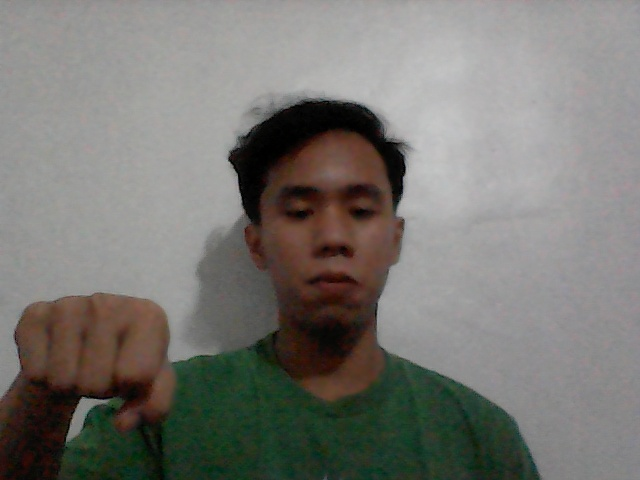Yes: (7, 269, 195, 453)
